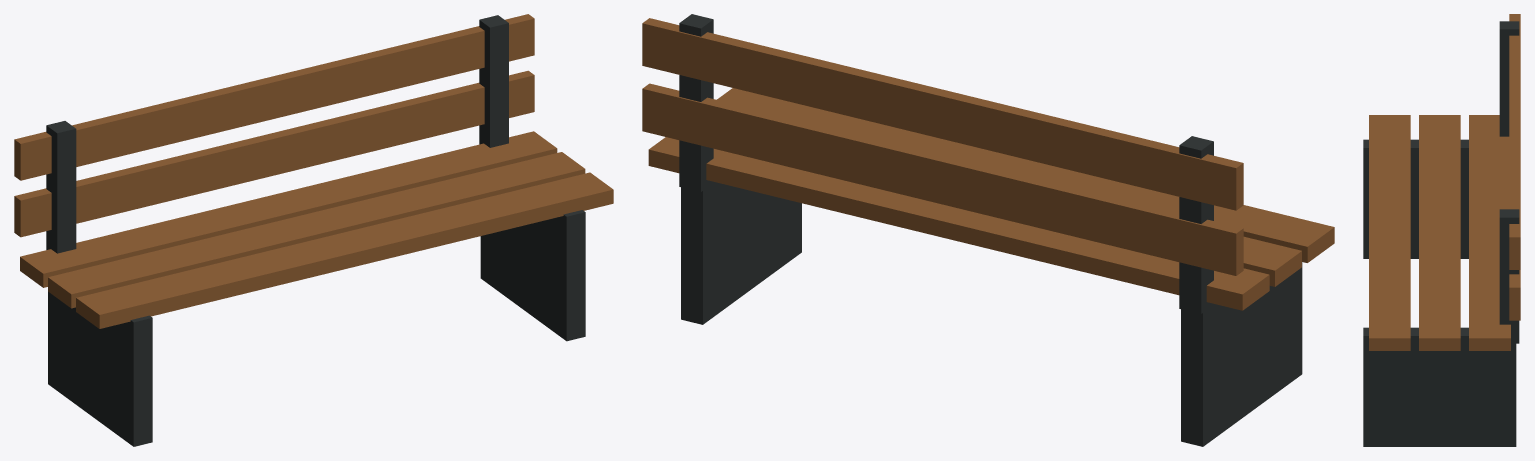
Rendered from park_bench.glb.
3 renders of one model, left to right at view 1: azimuth 30°, elevation 25°; view 2: azimuth 150°, elevation 25°; view 3: azimuth 270°, elevation 25°, orthographic. The views are drawn at different scales.
Parts seen in each view (by area): view 1: park_bench2; view 2: park_bench2; view 3: park_bench2.
Boxes of the visible parts, x1,y1,x2,y2 form: park_bench2: (14, 14, 613, 446); park_bench2: (642, 14, 1334, 446); park_bench2: (1363, 14, 1520, 446).
Size of the model in its own units: 1.9 by 0.91 by 0.565.
